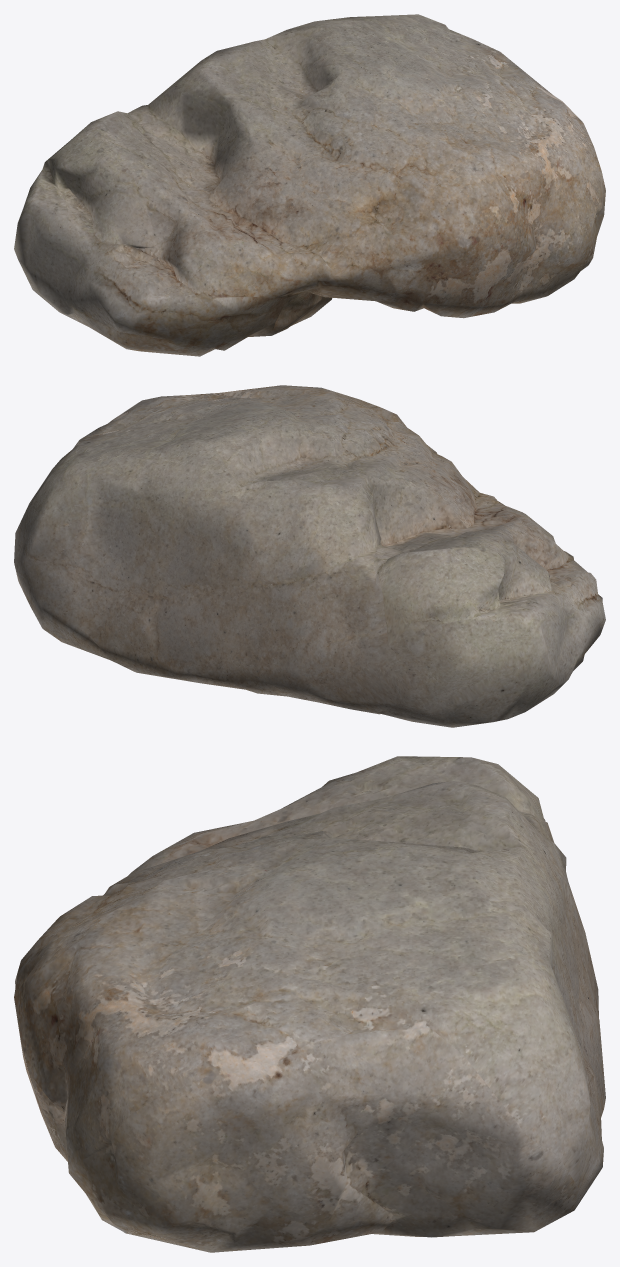
The model's file is webkbfd_tier_2.gltf.
3 renders of one model, top to bottom at view 1: azimuth 30°, elevation 25°; view 2: azimuth 150°, elevation 25°; view 3: azimuth 270°, elevation 25°, orthographic. The views are drawn at different scales.
Visible parts, largest first — view 1: webkbfd_LOD0_TIER2_000; view 2: webkbfd_LOD0_TIER2_000; view 3: webkbfd_LOD0_TIER2_000.
Boxes of the visible parts, left/top/right/bottom form: webkbfd_LOD0_TIER2_000: left=14, top=14, right=605, bottom=356; webkbfd_LOD0_TIER2_000: left=14, top=385, right=605, bottom=727; webkbfd_LOD0_TIER2_000: left=14, top=756, right=605, bottom=1252.
Size of the model in its own units: 0.1978 by 0.0814 by 0.1408.
Materials: 1 (1 with a texture image).
